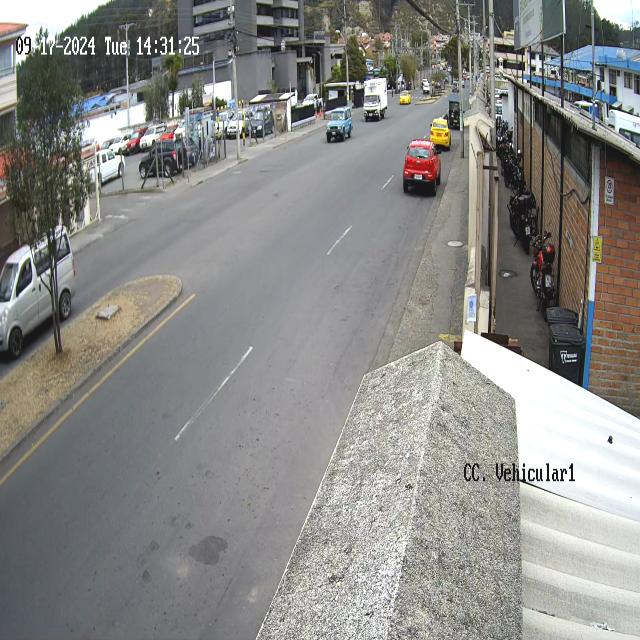SUV: (403, 138, 442, 196), (326, 106, 353, 142)
TRUCK: (364, 78, 388, 122)
